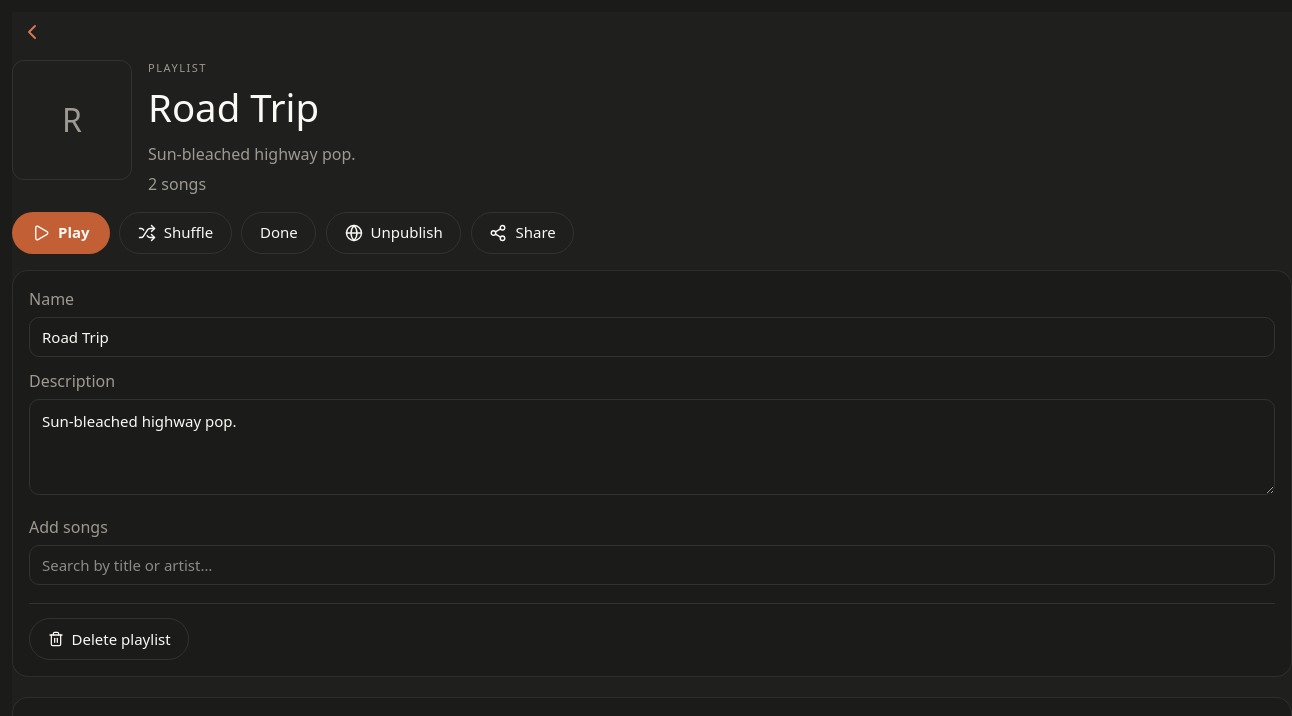
Test: PlaylistPageView song management › when the query matches the artist rather than the title, then the song is still suggested
The width and height of the screenshot is (1292, 716).
Click the field with placeholder "Search by title or artist…".
click(652, 565)  # box [29, 545, 1275, 585]
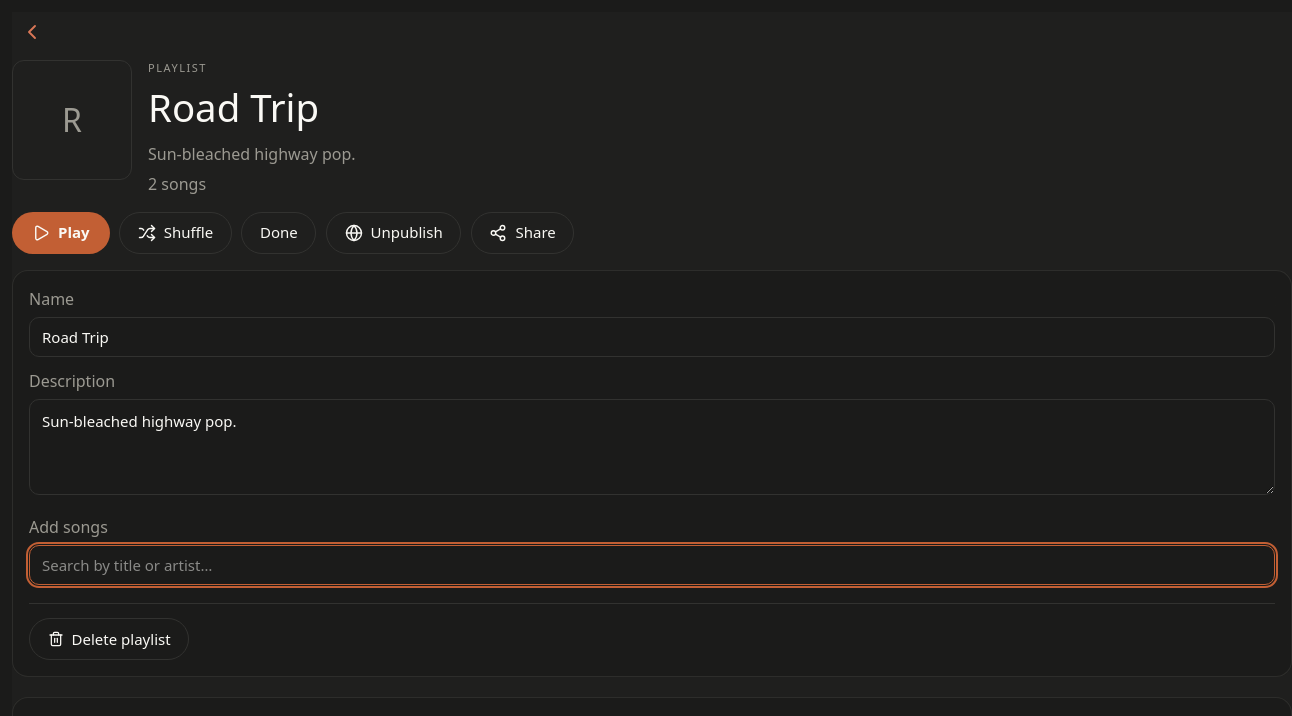
Type "weeknd" into the field with placeholder "Search by title or artist…".
click(652, 565); type("weeknd")  # box [29, 545, 1275, 585]
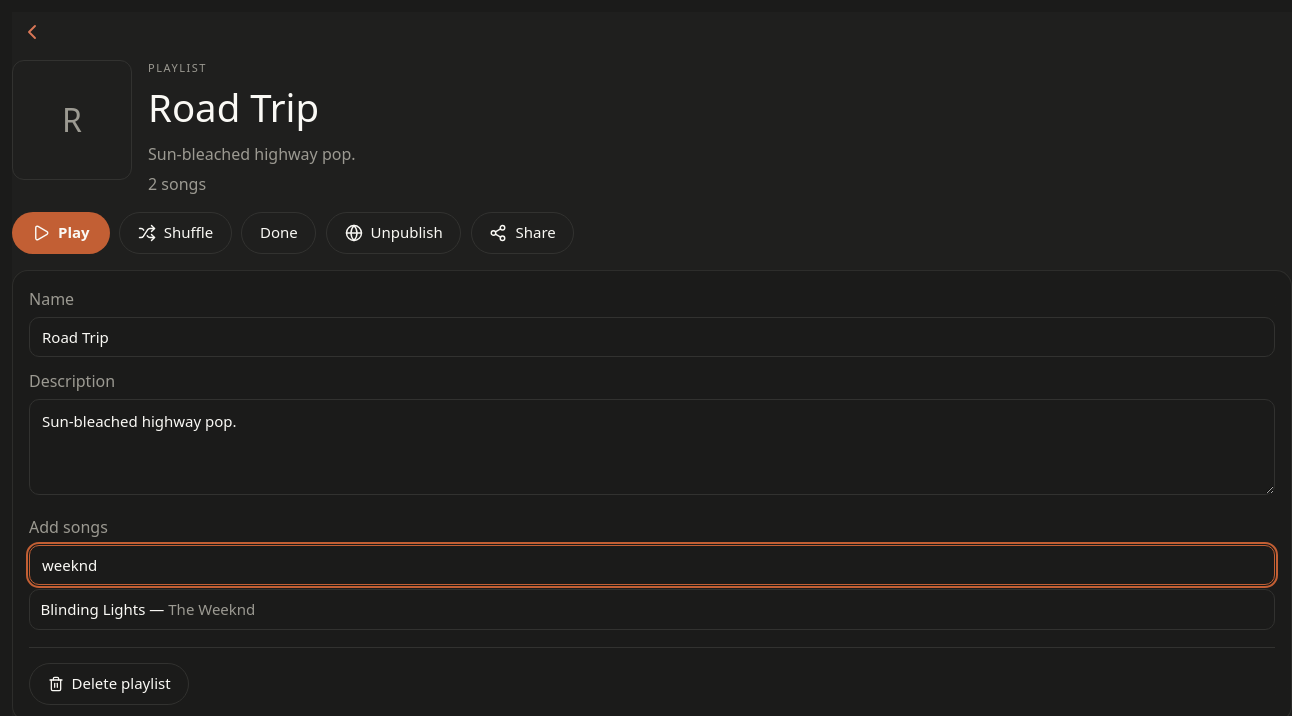
Expected: the button "Blinding Lights — The Weeknd" is shown, [29, 589, 1275, 630]
